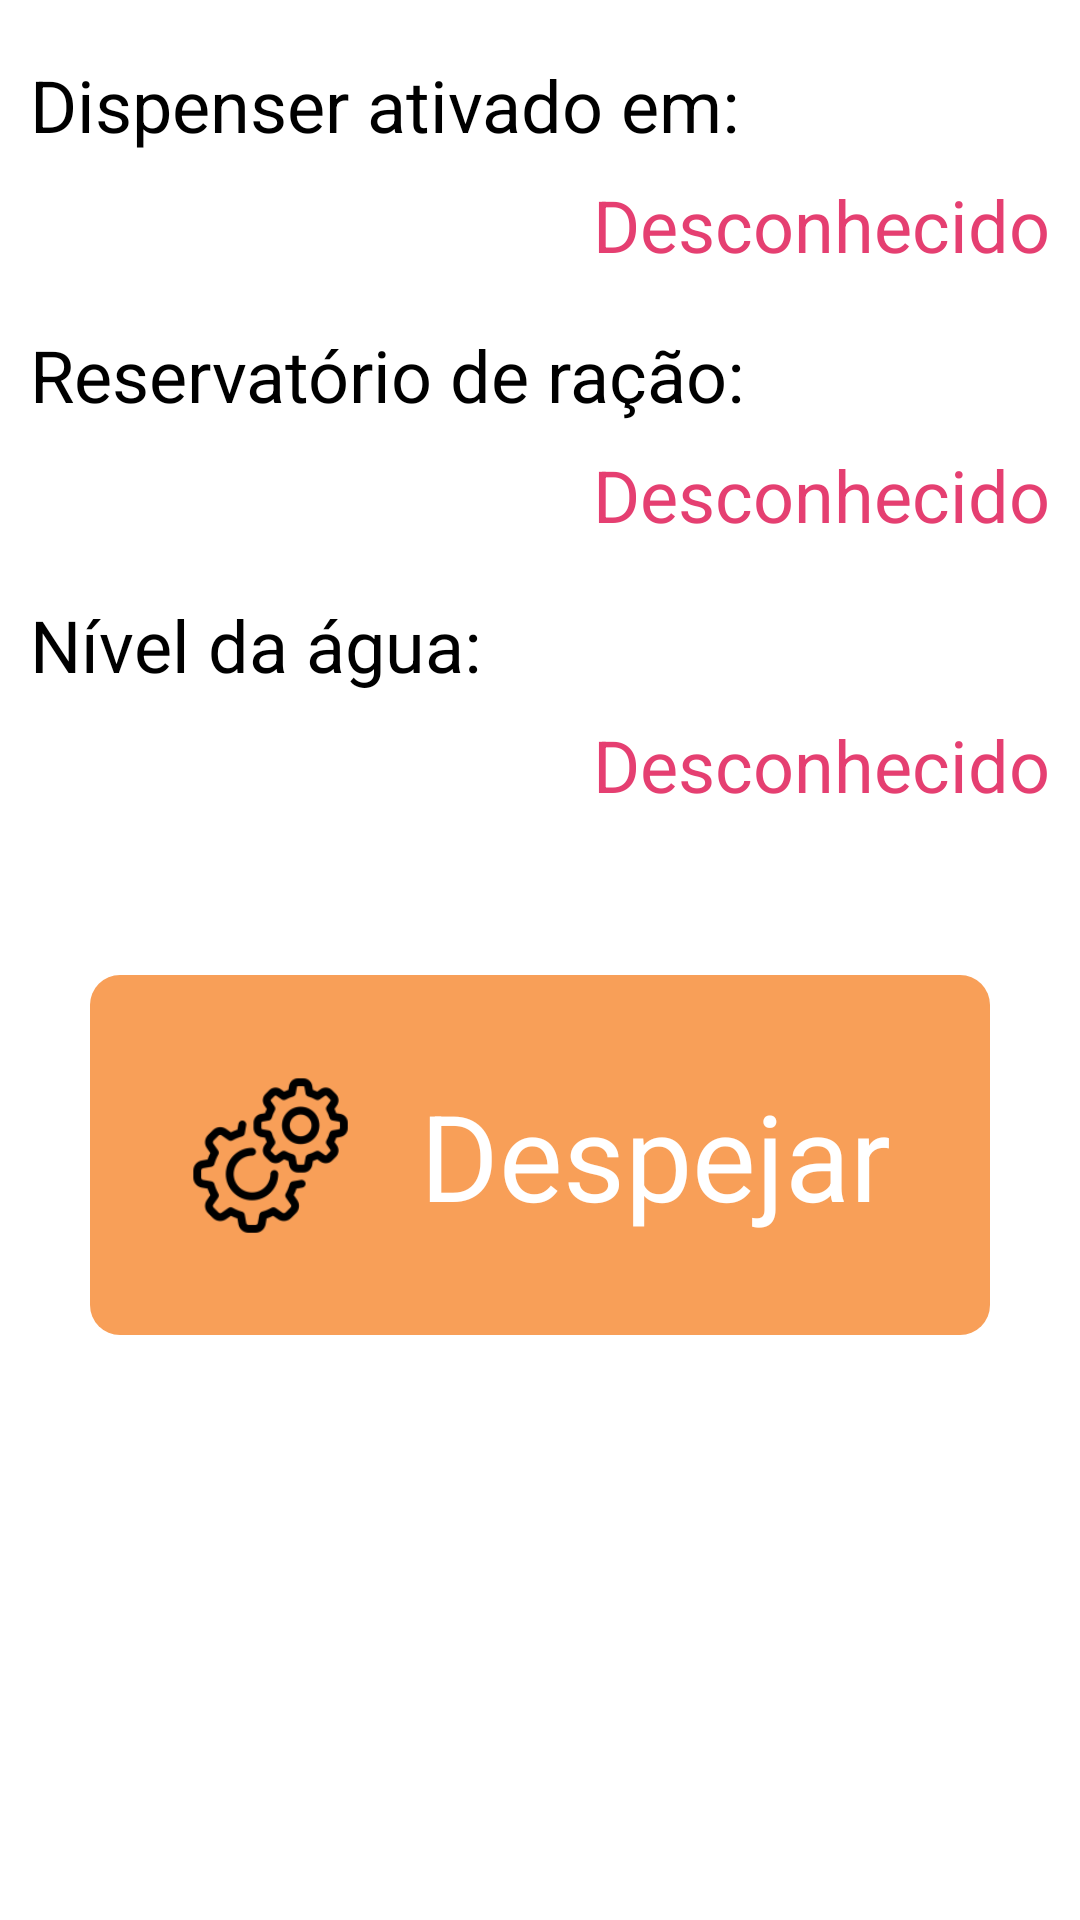

Screen size 1080x1920. Icon name, then its center in pixels as (x,y):
gear: (270,1155)
